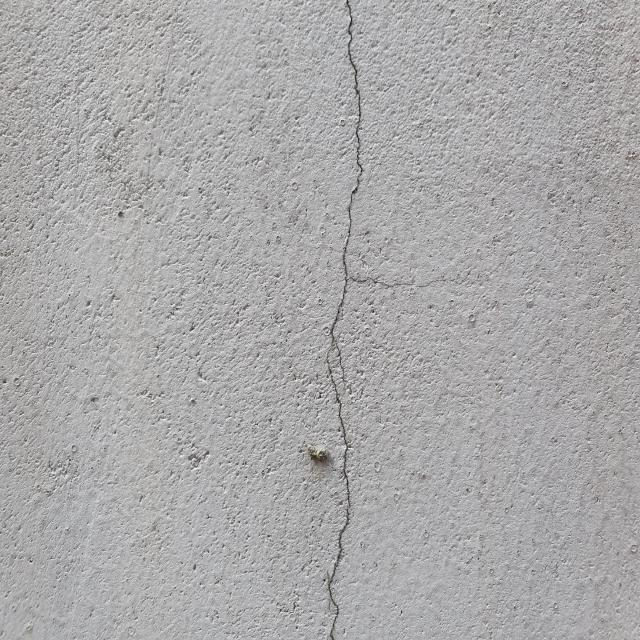SurfaceCrack: (267, 1, 408, 640)
